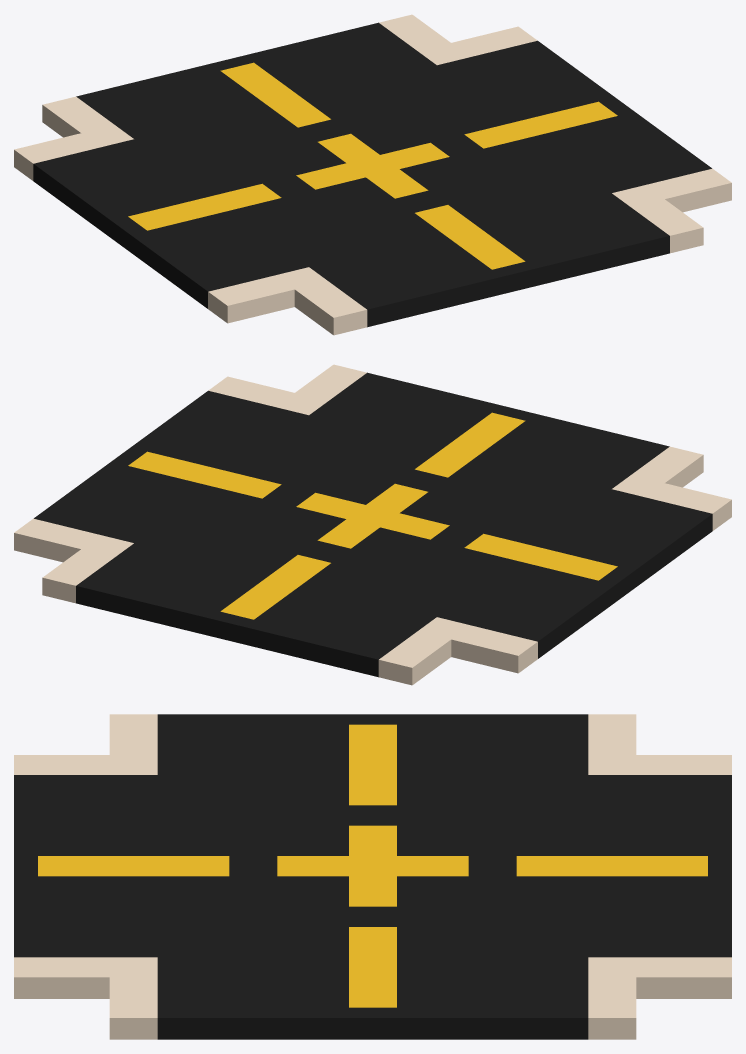
The model's file is 4wayRoad.obj.
3 renders of one model, top to bottom at view 1: azimuth 30°, elevation 25°; view 2: azimuth 150°, elevation 25°; view 3: azimuth 270°, elevation 25°, orthographic. The views are drawn at different scales.
Size of the model in its own units: 3 by 0.1 by 3.
1 material, 1 textured.
